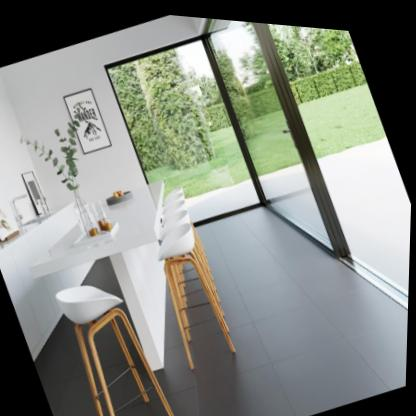Ceramic floor: (156, 199, 410, 416)
